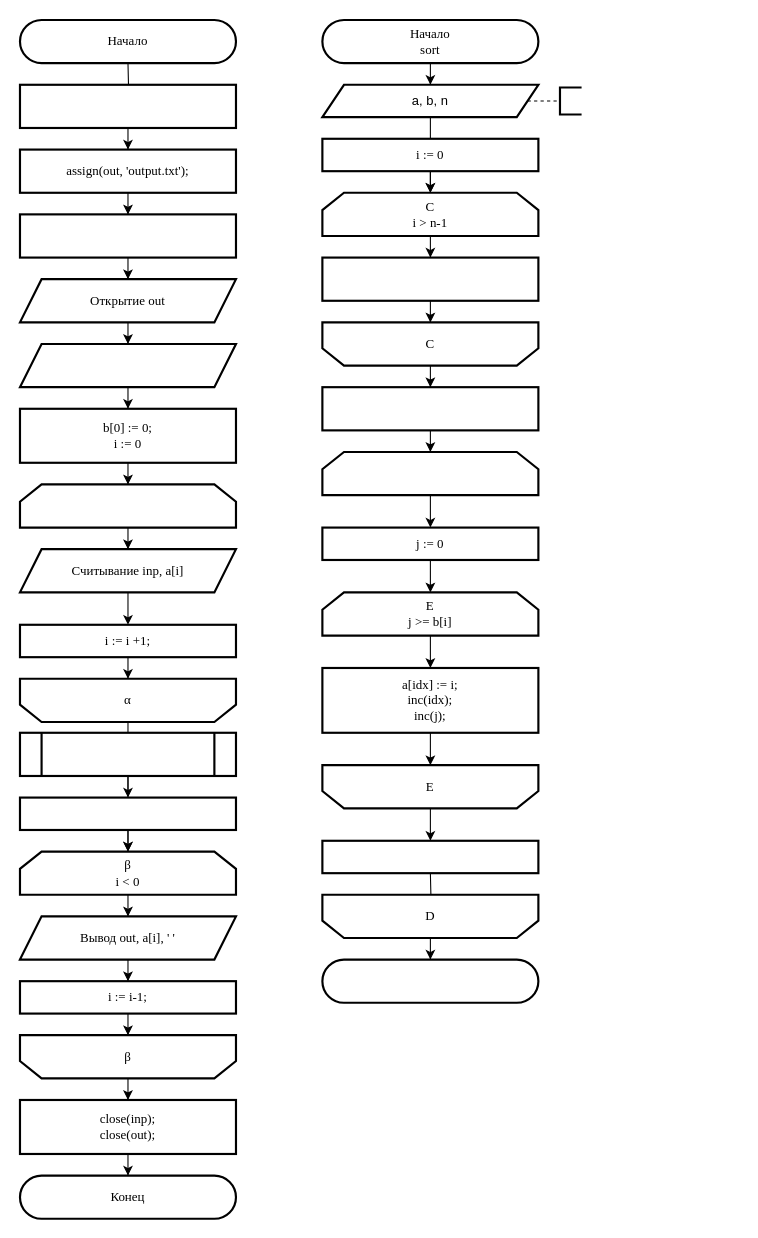
This 758x1238 diagram has some shape labels left out. Each missing label, with the centre of its shape:
"a, b, n - параметры по ссылке" goes at point (570, 100).
"assign(inp, 'input.txt');" goes at point (127, 106).
"D i > 10000" goes at point (430, 473).
"i := n-1" goes at point (127, 813).
"idx := 0; i := -10000" goes at point (430, 408).
"inc(b[a[i]]); inc(i);" goes at point (430, 278).
"inc(i);" goes at point (430, 856).
"reset(inp);" goes at point (127, 235).
"sort(a, b, n);" goes at point (127, 754).
"α i > n-1" goes at point (127, 505).
"Конец sort" goes at point (430, 980).
"Считывание inp, n" goes at point (127, 365).
